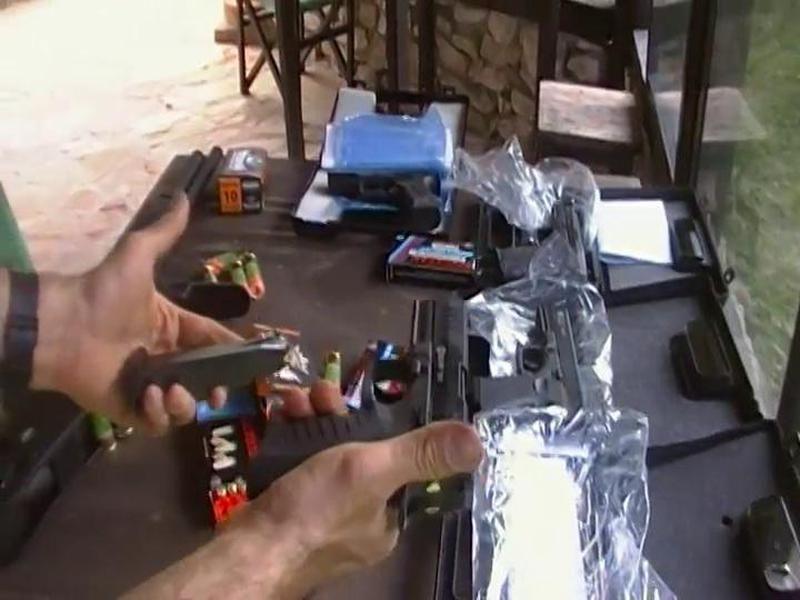Pistola: (242, 271, 482, 531)
